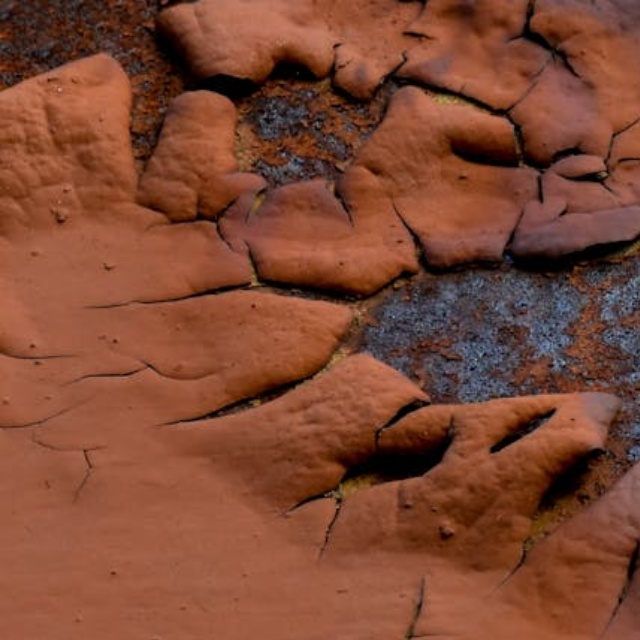深大裂缝: (0, 148, 640, 619)
细微裂纹: (286, 556, 499, 640)
